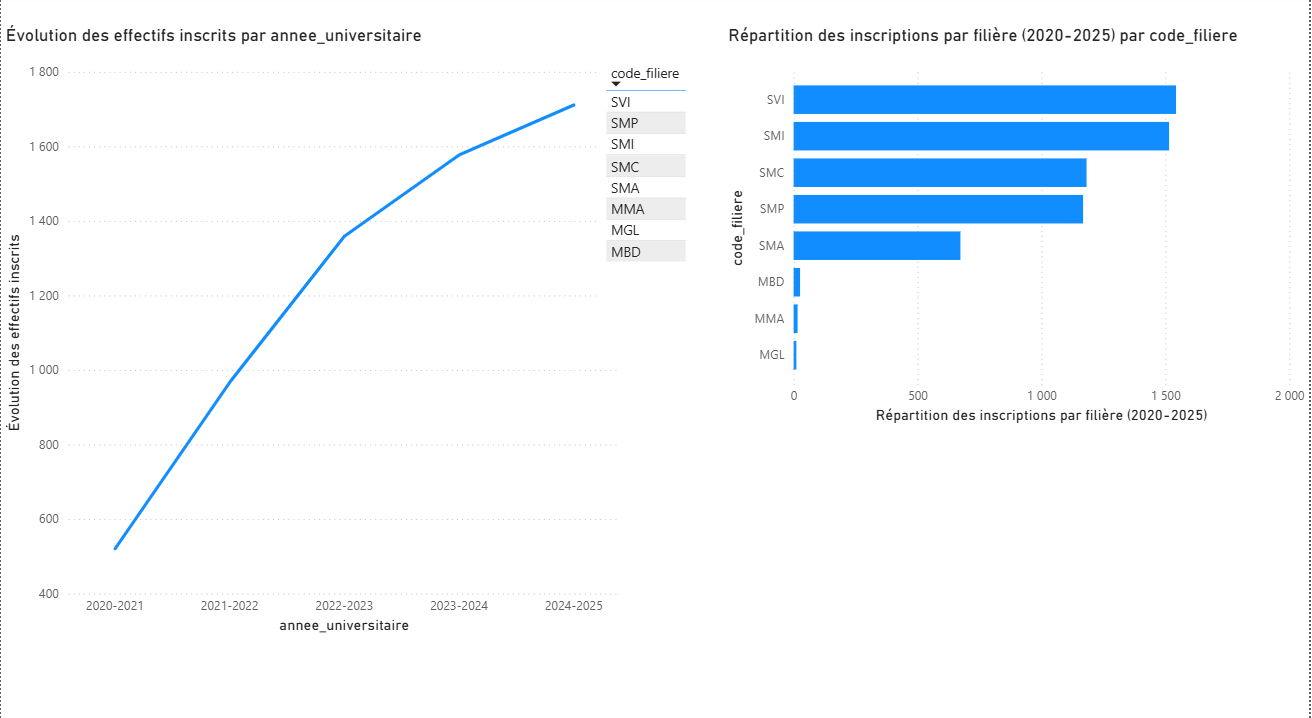

The dashboard page shown, as its layout file describes it:
{"tool":"powerbi","page":{"name":"Inscription","canvas":[1280,720],"ordinal":0},"visuals":[{"type":"lineChart","fields":{"Category":["dim_temps.annee_universitaire"],"Y":["CountNonNull(fait_inscription.cle_inscription)"]},"box":[0,29.8,610.5,600],"z":0},{"type":"tableEx","fields":{"Values":["dim_filiere.code_filiere"]},"box":[812,450,133.3,270.2],"z":1000},{"type":"barChart","fields":{"Category":["dim_filiere.code_filiere"],"Y":["CountNonNull(fait_inscription.cle_inscription)"]},"box":[707,29.8,573.7,394.7],"z":2000}]}

Visuals, with their boxes in screenshot pixels (x1, y1, x2, y2), scaled from the page's 1280x720 canvas onto the 1312x718 screenshot:
lineChart - dim_temps.annee_universitaire x CountNonNull(fait_inscription.cle_inscription): crop(0, 30, 626, 628)
tableEx - dim_filiere.code_filiere: crop(832, 449, 969, 717)
barChart - dim_filiere.code_filiere x CountNonNull(fait_inscription.cle_inscription): crop(725, 30, 1311, 423)
